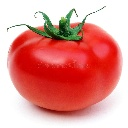tomato: (8, 22, 124, 112)
